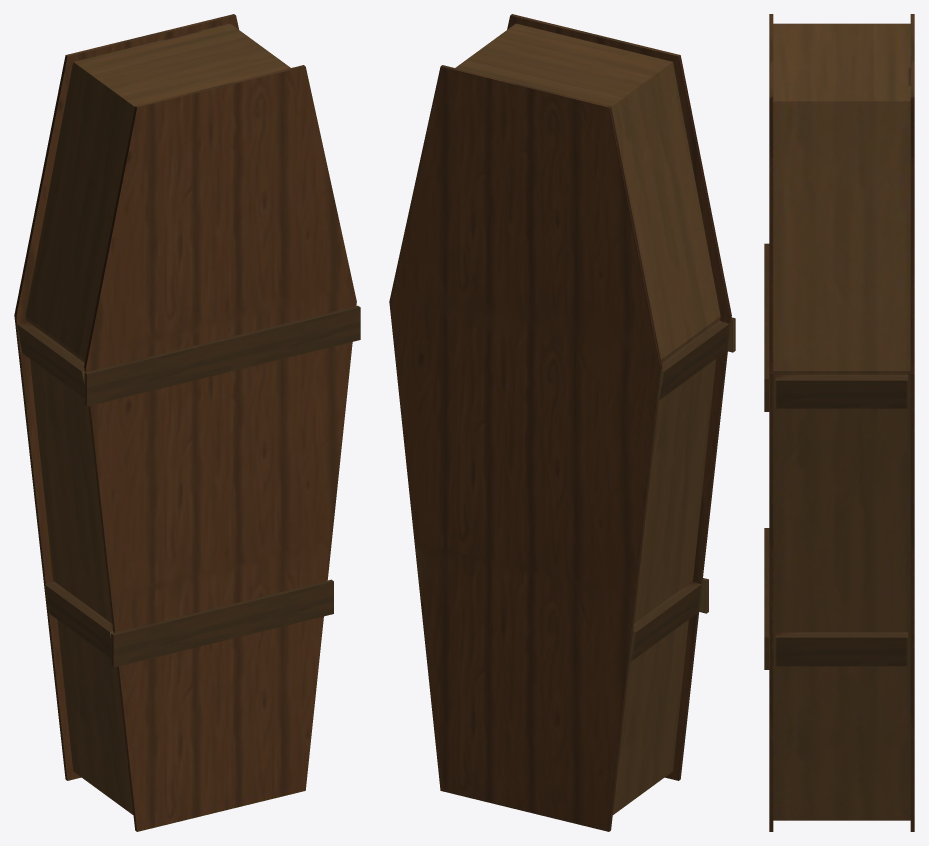
The model's file is Caixao.fbx.
The picture shows the model from 3 angles, left to right: view 1: azimuth 30°, elevation 25°; view 2: azimuth 150°, elevation 25°; view 3: azimuth 270°, elevation 25°; orthographic projection.
Visible parts, largest first — view 1: Caixao; view 2: Caixao; view 3: Caixao.
Boxes of the visible parts, left/top/right/bottom form: Caixao: left=14, top=14, right=360, bottom=831; Caixao: left=389, top=14, right=735, bottom=831; Caixao: left=764, top=14, right=914, bottom=831.
Bounding box in the file's own units: 85.55 × 216 × 40.1.
